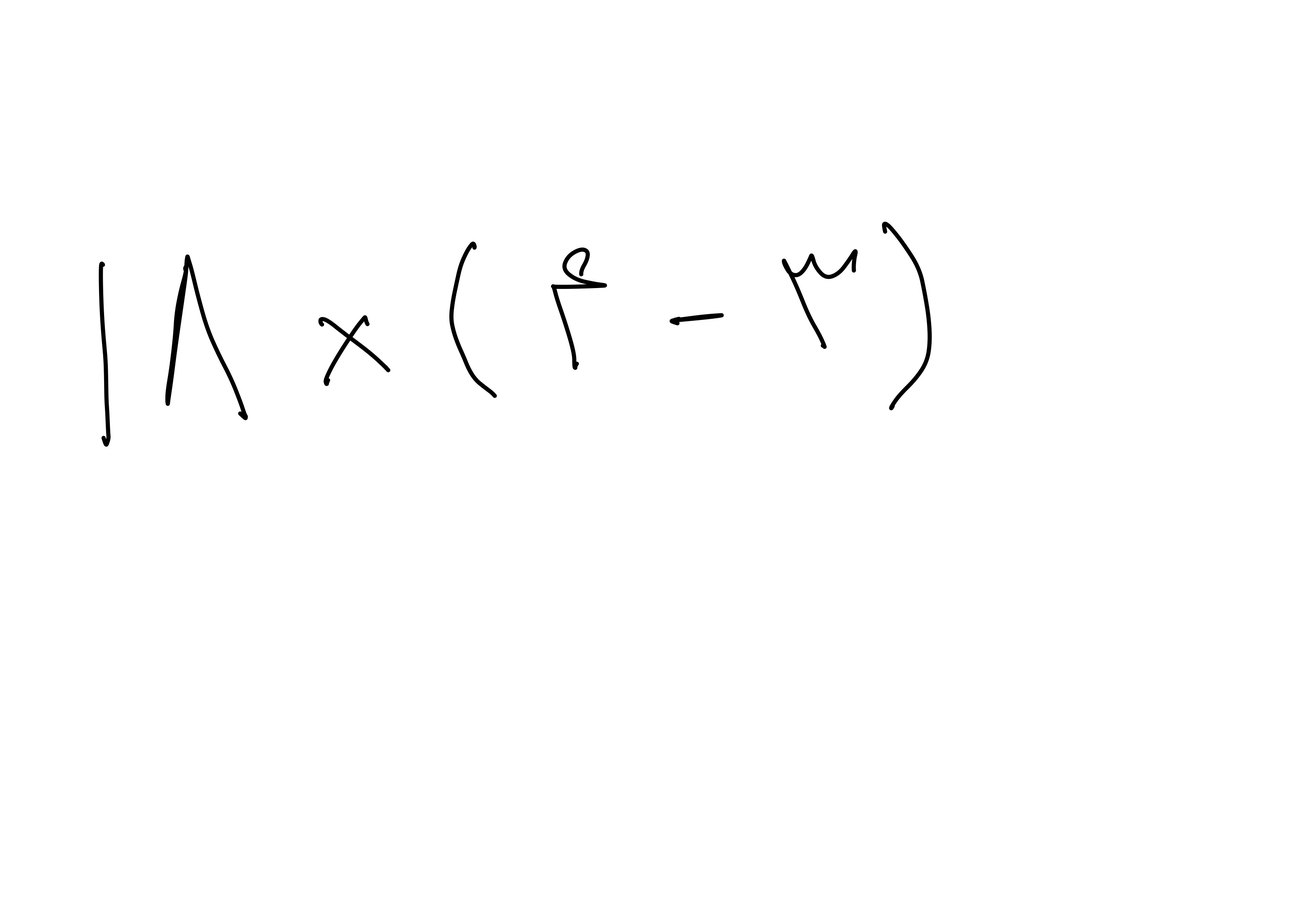character: (162, 253, 249, 423), (880, 221, 936, 413), (449, 239, 497, 409), (780, 249, 860, 349), (551, 245, 606, 369), (313, 313, 389, 387), (94, 261, 112, 449), (668, 311, 722, 327)
